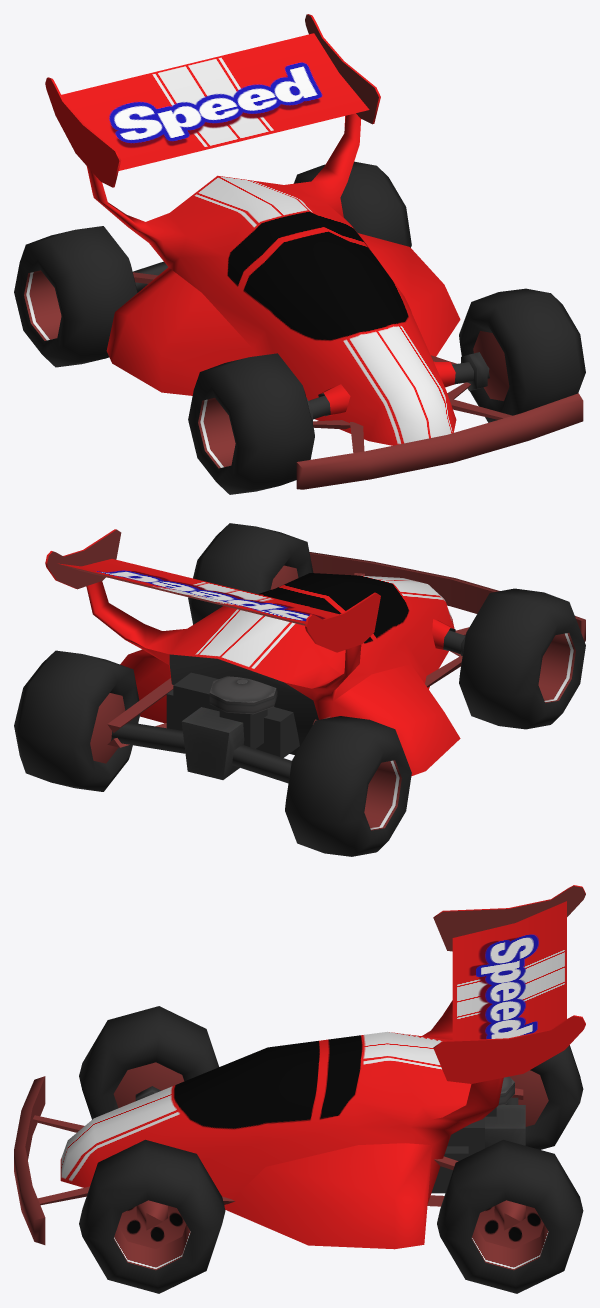
File: car_lowpoly.dae
3 views of the same model, one above another, from view 1: azimuth 30°, elevation 25°; view 2: azimuth 150°, elevation 25°; view 3: azimuth 270°, elevation 25° (orthographic). The views are drawn at different scales.
Visible parts, largest first — view 1: rccarBody_LP, wing_LP, wheelFrontR_LP, wheelRearR_LP, wheelFrontL_LP, wheelRearL_LP; view 2: rccarBody_LP, wheelFrontR_LP, wheelRearR_LP, wheelRearL_LP, wing_LP, wheelFrontL_LP, engine_LP; view 3: rccarBody_LP, wing_LP, wheelRearL_LP, wheelFrontL_LP, wheelFrontR_LP, wheelRearR_LP, engine_LP.
Part boxes in pixels (box(x1,y1,x2,y2)): rccarBody_LP: box(86, 113, 583, 489); wing_LP: box(45, 14, 380, 187); wheelFrontR_LP: box(188, 353, 314, 494); wheelRearR_LP: box(14, 226, 137, 367); wheelFrontL_LP: box(459, 288, 585, 422); wheelRearL_LP: box(294, 161, 411, 247); rccarBody_LP: box(86, 552, 585, 783); wheelFrontR_LP: box(459, 588, 585, 729); wheelRearR_LP: box(285, 716, 411, 856); wheelRearL_LP: box(14, 650, 140, 791); wing_LP: box(45, 529, 380, 652); wheelFrontL_LP: box(188, 523, 313, 624); engine_LP: box(166, 672, 299, 757); rccarBody_LP: box(14, 1000, 525, 1249); wing_LP: box(433, 885, 585, 1083); wheelRearL_LP: box(437, 1139, 583, 1293); wheelFrontL_LP: box(79, 1139, 225, 1293); wheelFrontR_LP: box(79, 1006, 218, 1119); wheelRearR_LP: box(509, 1045, 583, 1149); engine_LP: box(431, 1076, 514, 1193).
Bounding box in the file's own units: 7.27 × 5.18 × 10.1.
1 material, 1 textured.
